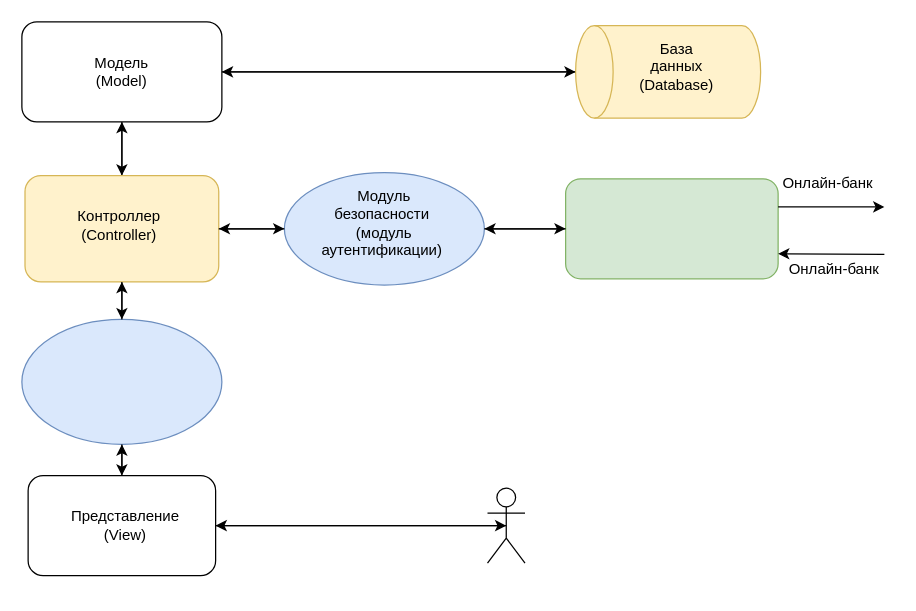
Image size: 916x611. Some labels were removed from this diagram. Each missing label, with the centre of its shape:
"Клиент" belongs at (505,525).
"Модуль безопасности (модуль валидации данных)" belongs at (121,381).
"Платёжный шлюз (Payment Gateway Integrationюз)" belongs at (671,228).
